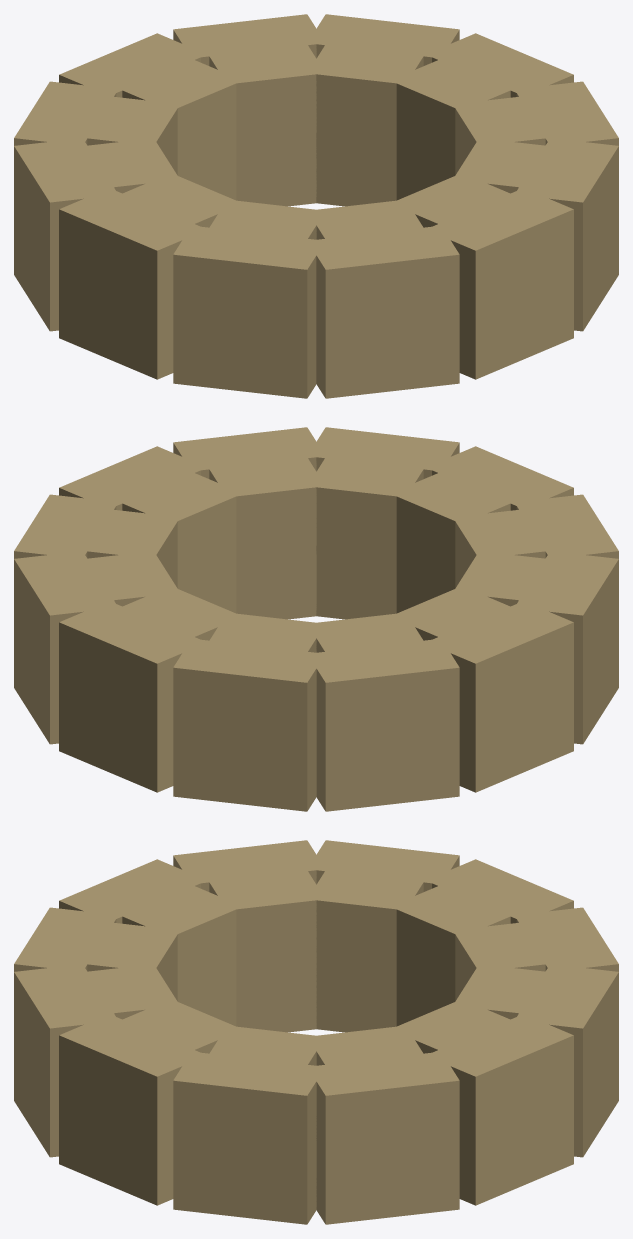
The model's file is Craft_RopeCoil.fbx.
3 views of the same model, one above another, from view 1: azimuth 30°, elevation 25°; view 2: azimuth 150°, elevation 25°; view 3: azimuth 270°, elevation 25° (orthographic).
Parts seen in each view (by area): view 1: Craft_RopeCoil; view 2: Craft_RopeCoil; view 3: Craft_RopeCoil.
Part boxes in pixels (x1,y1,x2,y2): Craft_RopeCoil: (14,14,618,398); Craft_RopeCoil: (14,427,618,811); Craft_RopeCoil: (14,840,618,1224).
Bounding box in the file's own units: 0.5528 × 0.13 × 0.5528.
